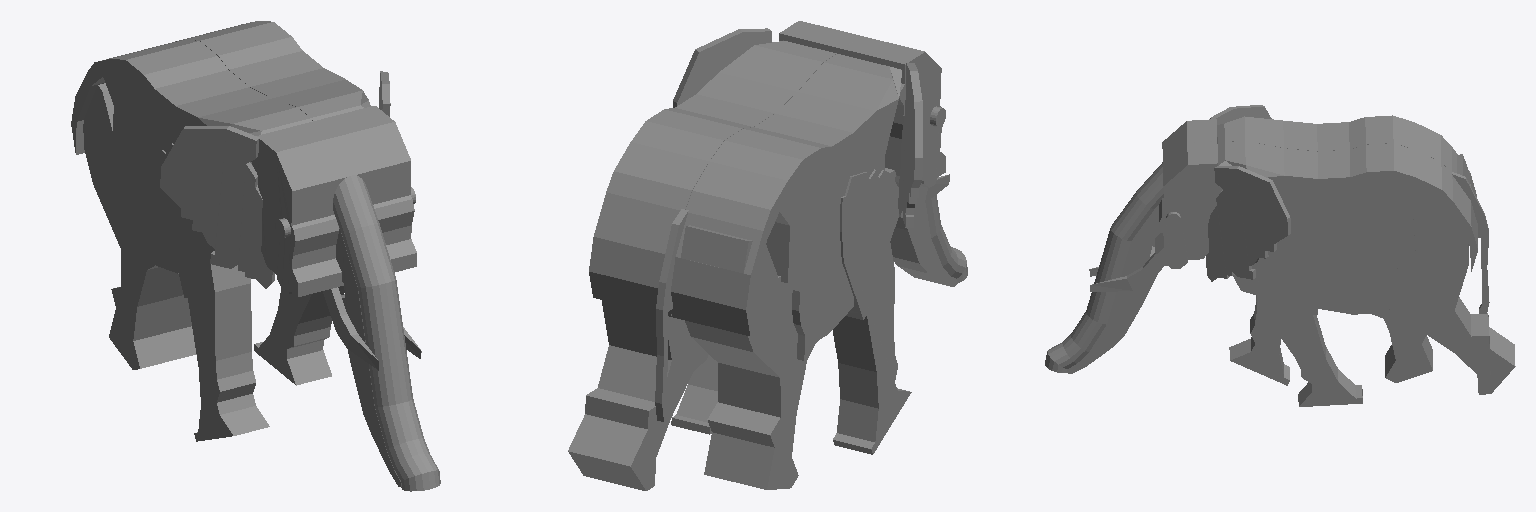
robot.urdf — cube.urdf:
<?xml version="0.0" ?> 
<robot name="cube.urdf"> 
<link name="legobrick"> 
<contact> 
<lateral_friction value="1.0"/>
<rolling_friction value="0.0"/>
<contact_cfm value="0.0"/>
<contact_erp value="1.0"/>
</contact> 
<inertial> 
<origin rpy="0 0 0" xyz="0.0 0.0 0.0"/> 
<mass value="0.1"/> 
<inertia ixx="1" ixy="0" ixz="0" iyy="1" iyz="0" izz="1"/> 
</inertial> 
<visual> 
<origin rpy="1.570796 0 0" xyz="-1.844895936571721e-06 0.005654617608192922 -0.005639906177733675"/> 
<geometry> 
<mesh filename="4d99955663a6f1d66138f18acdeb955a.obj" scale="1 1 1"/> 
</geometry> 
<material name="yellow"> 
<color rgba="0.6 0.6 0.6 1"/> 
</material> 
</visual> 
<collision> 
<origin rpy="1.570796 0 0" xyz="-1.844895936571721e-06 0.005654617608192922 -0.005639906177733675"/> 
<geometry> 
<mesh filename="4d99955663a6f1d66138f18acdeb955a_col.obj" scale="1 1 1"/> 
</geometry> 
</collision> 
</link> 
</robot>

--- What the picture shows (computed from the rendered views, not written in the file) ---
Views: 3 orthographic renders of the robot side by side, from view 1: azimuth 30°, elevation 25°; view 2: azimuth 150°, elevation 25°; view 3: azimuth 270°, elevation 25°.
Model cube.urdf with 1 links and 0 joints (none), rooted at legobrick, posed every joint at zero.
Visible links, largest first — view 1: legobrick; view 2: legobrick; view 3: legobrick.
Boxes of the visible links, <box> form: legobrick: <box>71,21,440,491</box>; legobrick: <box>568,21,967,490</box>; legobrick: <box>1045,105,1515,406</box>.
Size in the robot's own frame: 0.0319 by 0.0726 by 0.045 metres.
Meshes: 1 distinct files referenced, 1 mesh visuals loaded (1 OBJ).